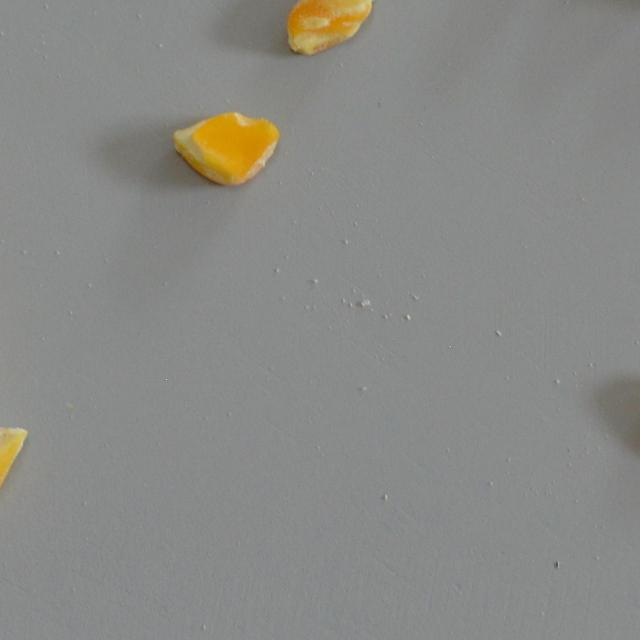dañado: (168, 106, 284, 188), (282, 0, 390, 59), (0, 398, 30, 538)
